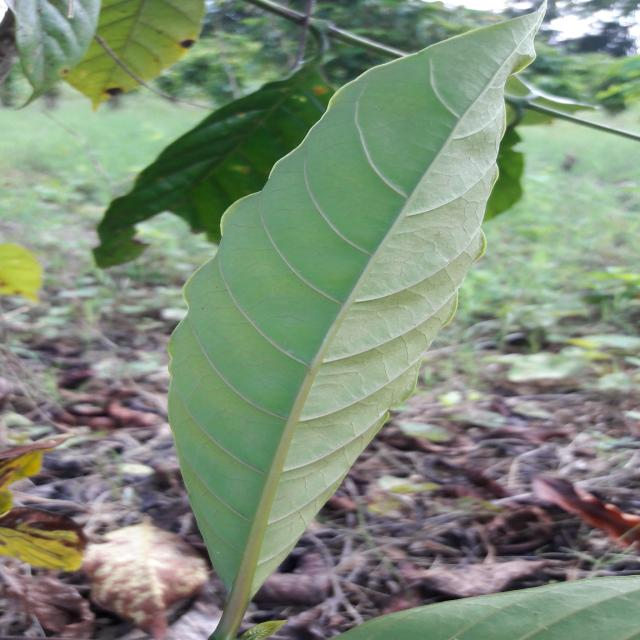Sanas: (167, 10, 543, 640)
